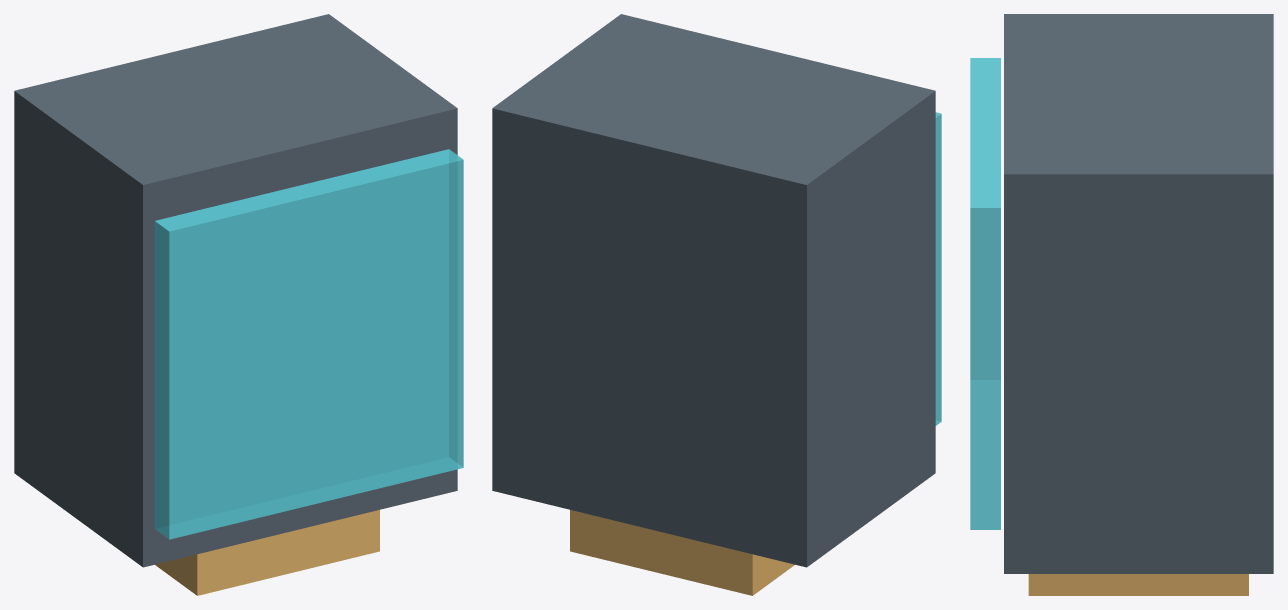
The picture shows the model from 3 angles, left to right: view 1: azimuth 30°, elevation 25°; view 2: azimuth 150°, elevation 25°; view 3: azimuth 270°, elevation 25°; orthographic projection. The views are drawn at different scales.
Parts seen in each view (by area): view 1: cooler tower, cooler fan, cooler cold plate; view 2: cooler tower, cooler cold plate, cooler fan; view 3: cooler tower, cooler fan, cooler cold plate.
Boxes of the visible parts, x1,y1,x2,y2 form: cooler tower: (14,14,457,567); cooler fan: (154,149,463,539); cooler cold plate: (155,510,379,595); cooler tower: (492,14,935,567); cooler cold plate: (570,510,794,595); cooler fan: (935,112,941,425); cooler tower: (1004,14,1273,573); cooler fan: (970,58,1000,529); cooler cold plate: (1028,574,1248,595).
Size of the model in its own units: 0.62 by 0.82 by 0.495.
